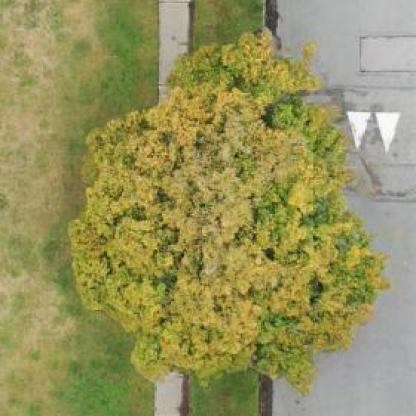Deciduous Tree: (50, 29, 391, 394)
